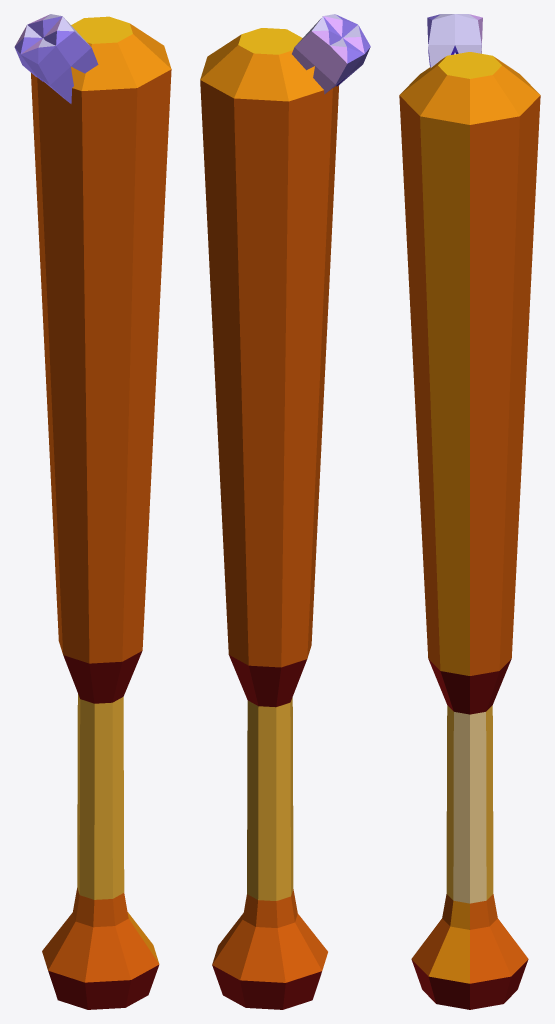
The model's file is 3D_wpn_bat.fbx.
The picture shows the model from 3 angles, left to right: view 1: azimuth 30°, elevation 25°; view 2: azimuth 150°, elevation 25°; view 3: azimuth 270°, elevation 25°; orthographic projection. The views are drawn at different scales.
Parts seen in each view (by area): view 1: GEO_bat; view 2: GEO_bat; view 3: GEO_bat.
Part boxes in pixels (x1,y1,x2,y2): GEO_bat: (14, 14, 171, 1009); GEO_bat: (200, 14, 370, 1009); GEO_bat: (399, 14, 540, 1009).
Size of the model in its own units: 0.192 by 0.161 by 1.2.
